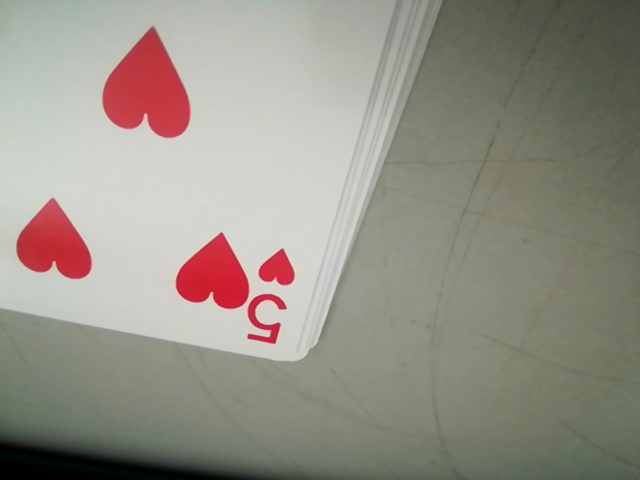hx 5: (247, 248, 299, 343)
